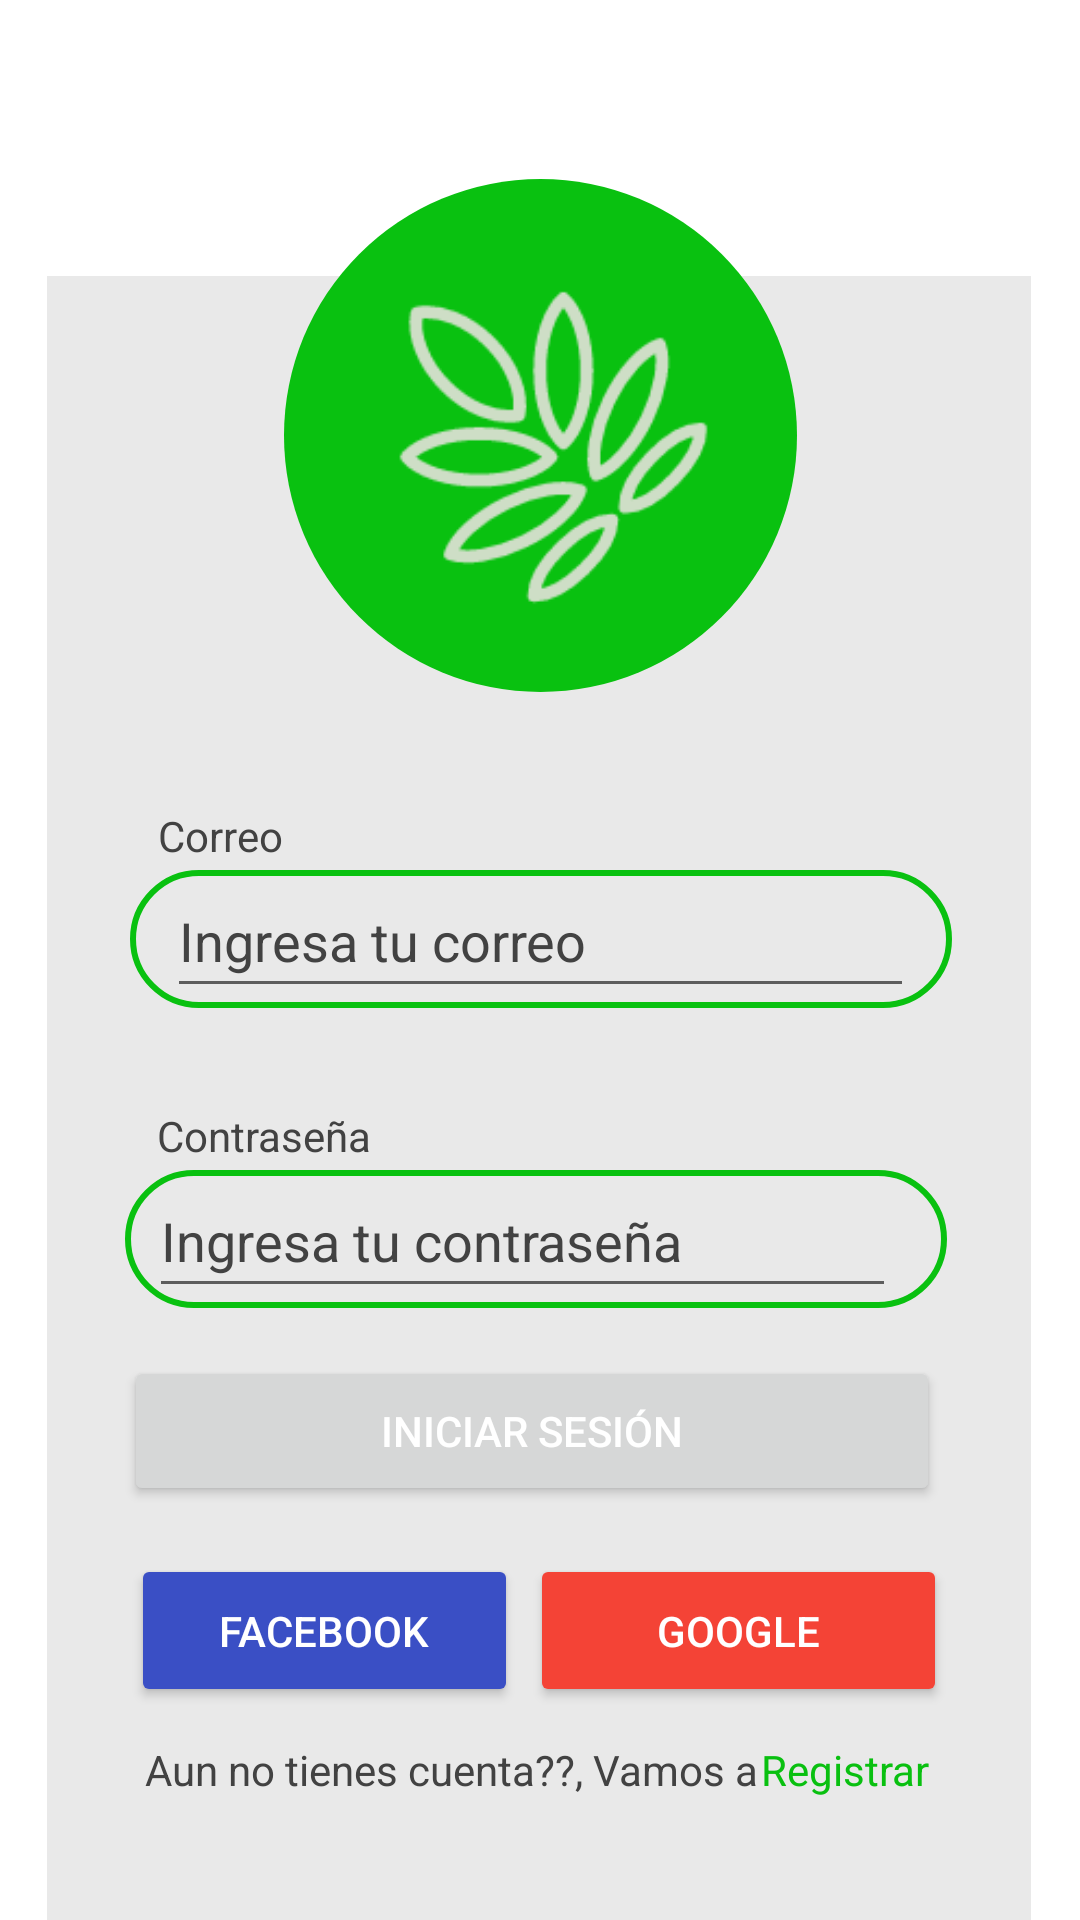

Icons on this 1080px×1920px Android screen, each with the point to tap as (x,y):
grain: (553,447)
